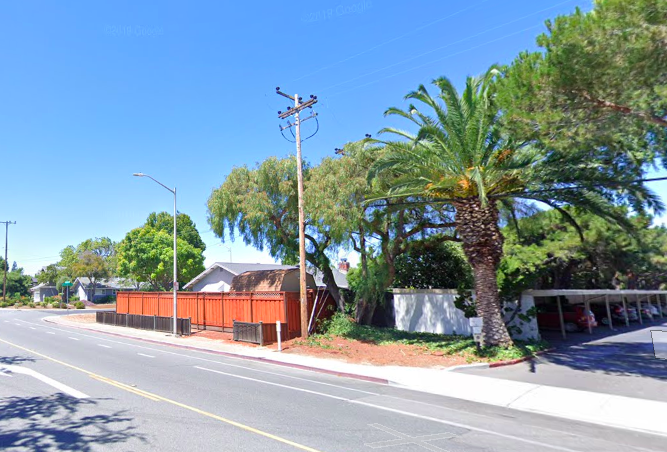utility_pole: (265, 79, 325, 153)
